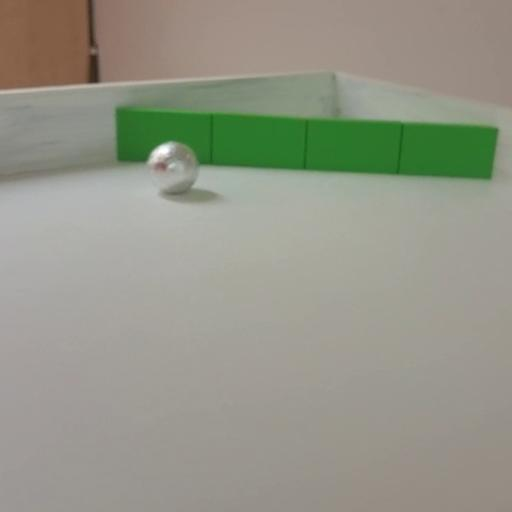alive: (146, 141, 198, 194)
